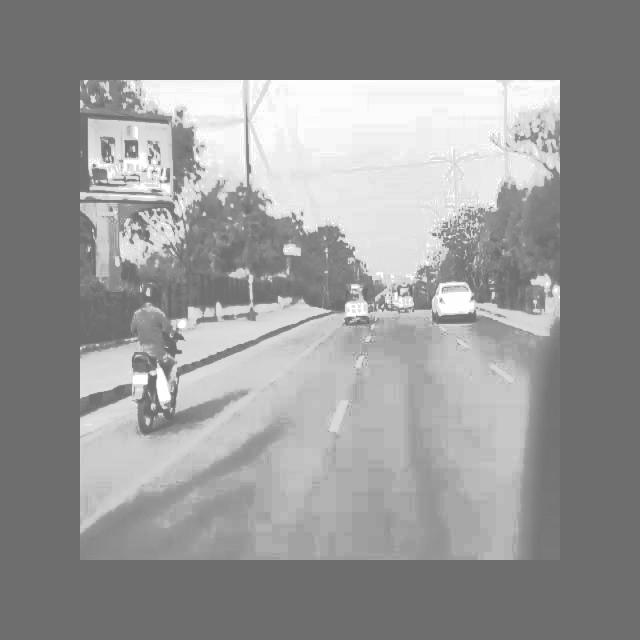Car: (424, 271, 486, 329)
